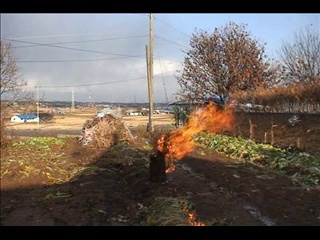fire: (156, 116, 191, 173), (191, 100, 238, 135), (182, 207, 207, 225)
